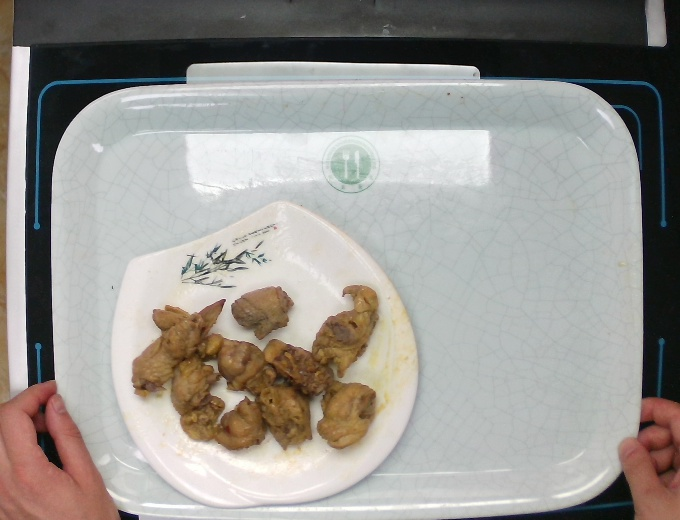JYsf-Mian_Pan: (106, 195, 422, 512)
